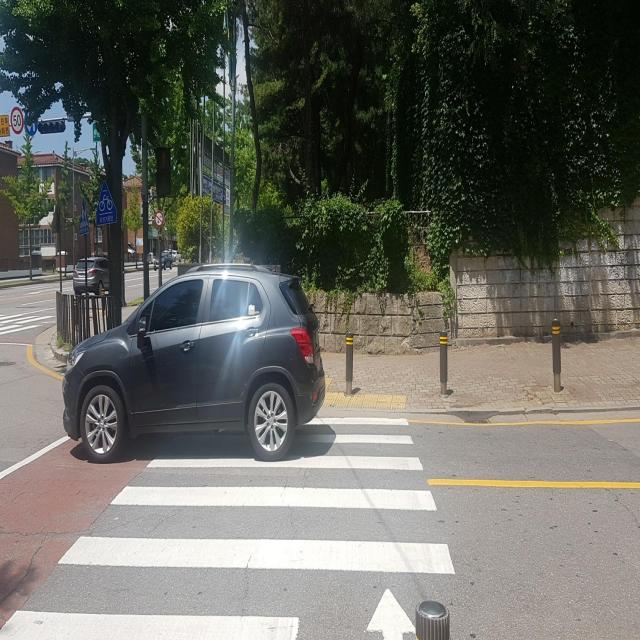횡단보도: (2, 410, 458, 636), (0, 315, 50, 331)
